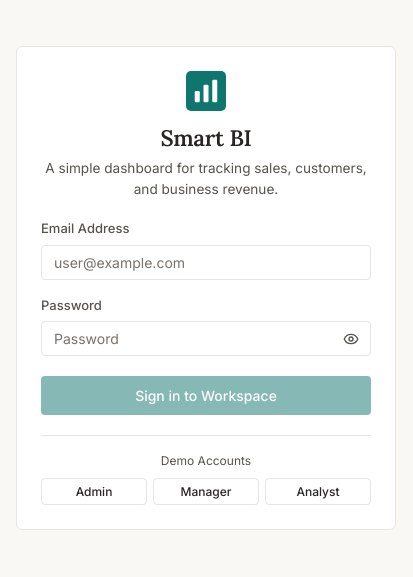
Login Page Component › displays error alert on invalid credentials
Type "wrong@bi.corp" into the field labelled "Email Address" at point(206, 262), box [41,245,371,280]
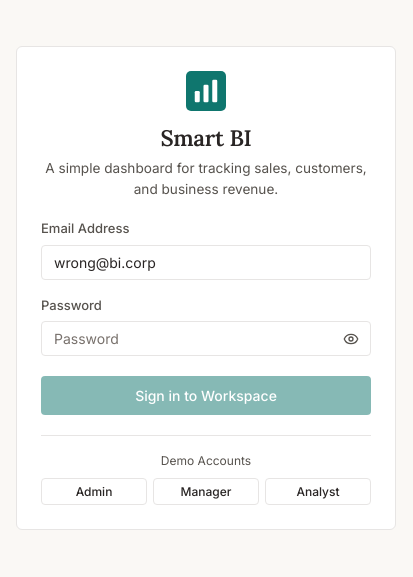
Type "wrongpass" into the password field labelled "Password" at point(206, 339), box [41,321,371,356]
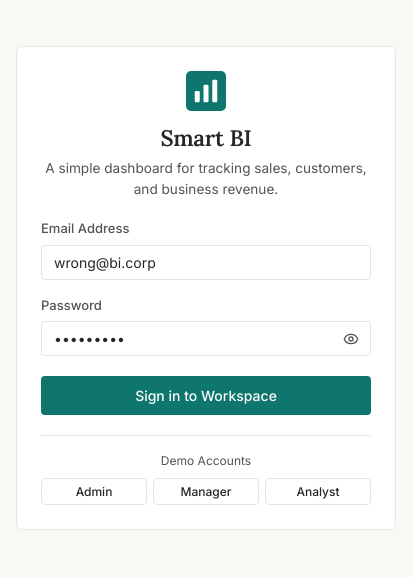
Click the button "Sign in to Workspace" at point(206, 396), box [41,376,371,415]
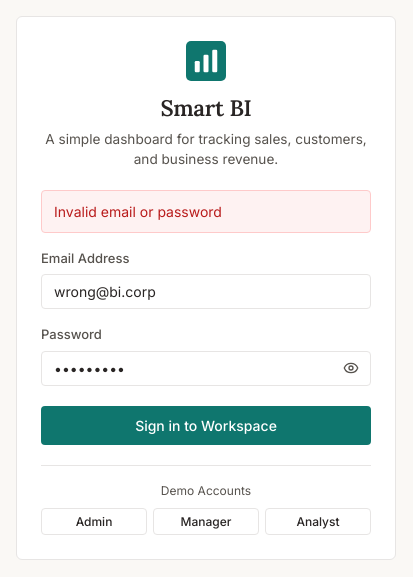
Check: the text "Invalid email or password" is shown, box [41,190,371,233]
